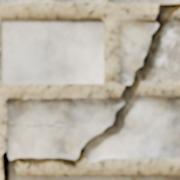brick: (2, 20, 103, 82), (12, 177, 179, 179), (112, 0, 179, 3), (0, 0, 100, 2)
broken_brick: (7, 97, 121, 158), (87, 96, 179, 163), (119, 20, 157, 85), (143, 19, 179, 83)
crack: (0, 2, 179, 179)
